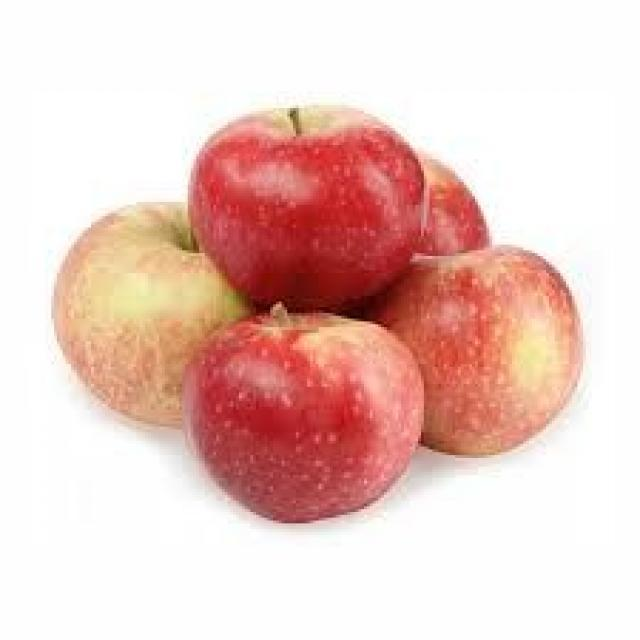Fresh Apple: (192, 115, 428, 313), (198, 318, 428, 517), (406, 228, 562, 452), (62, 214, 222, 418)
